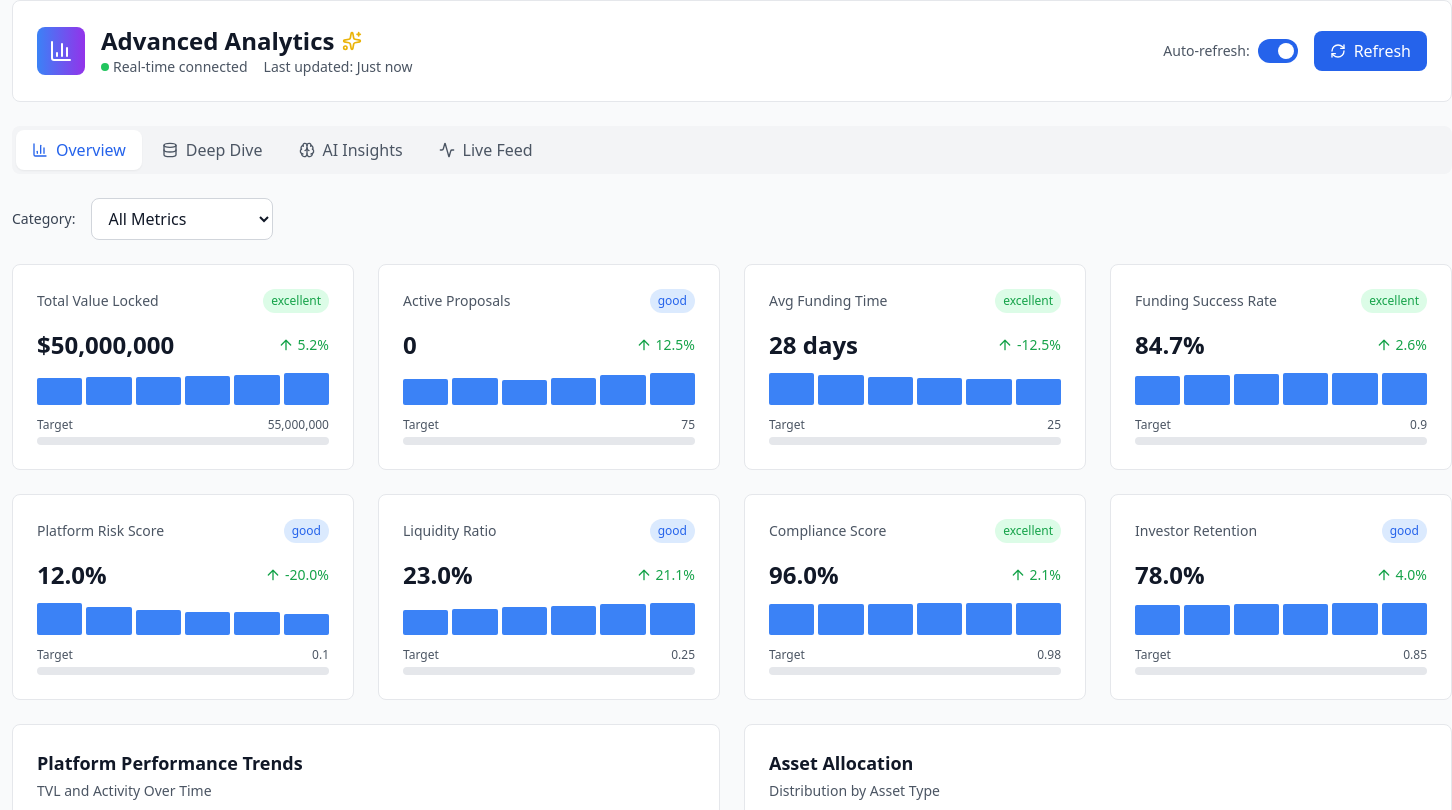
Test: AdvancedAnalyticsDashboard › switches to AI insights tab
Click the button "AI Insights".
click(351, 150)  # box 282,130 -> 419,170
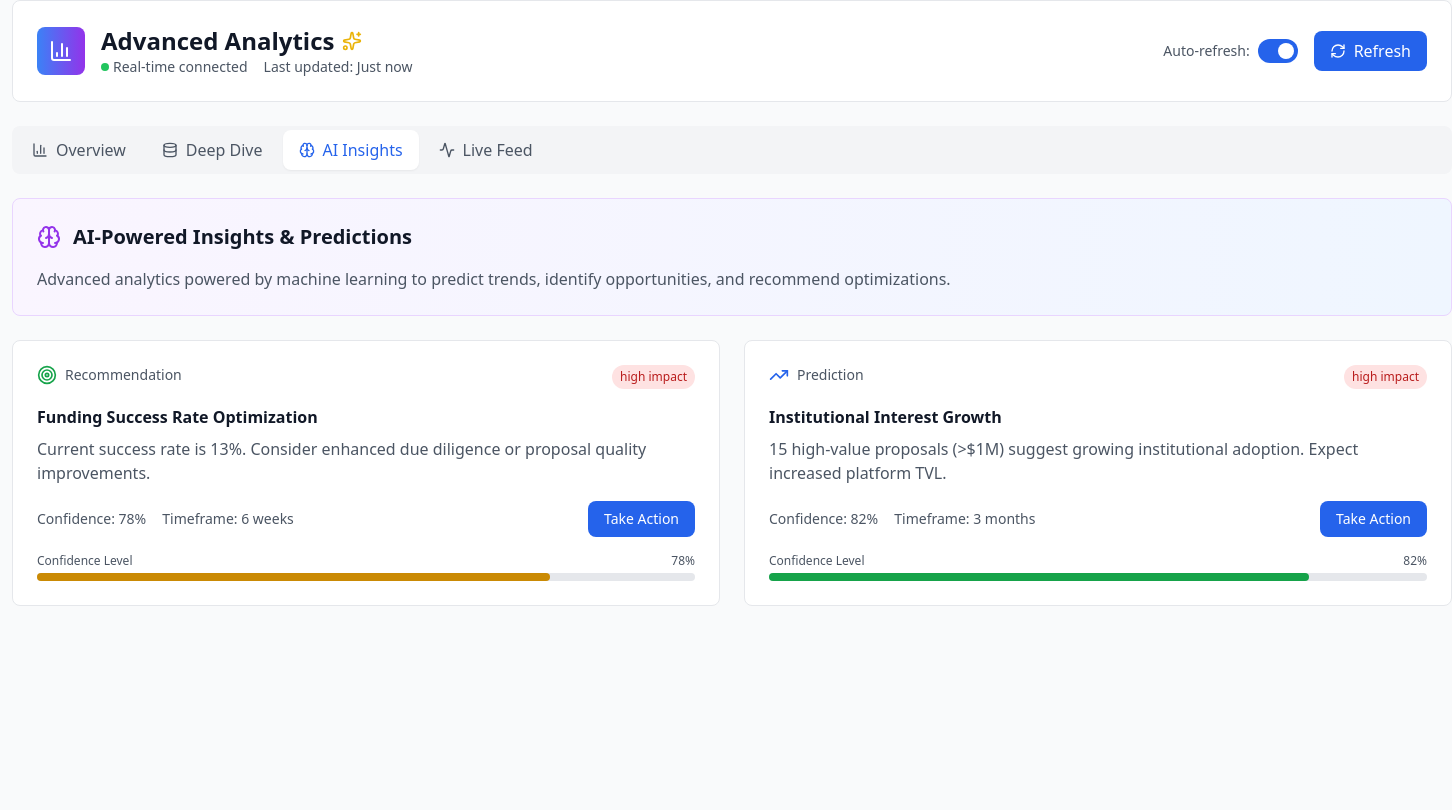
Expected: the heading "AI-Powered Insights & Predictions" is shown, 73,223 -> 412,251
Expected: the text "Advanced analytics powered by machine learning" is shown, 37,268 -> 951,290
